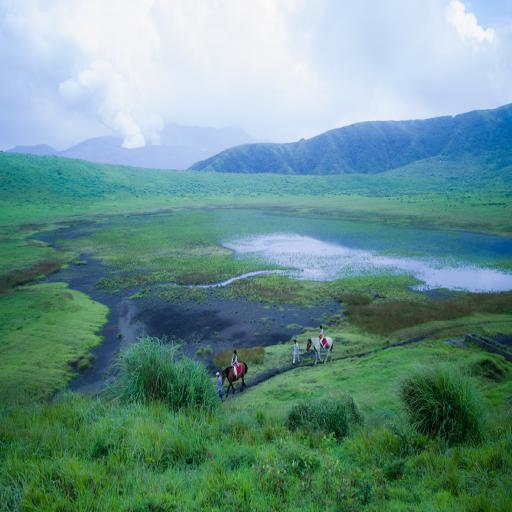horse: (221, 362, 249, 396), (306, 338, 334, 368)
